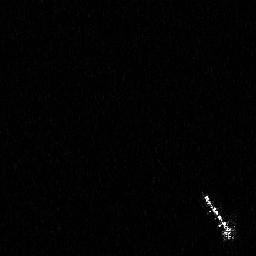ship: (202, 190, 237, 243)
